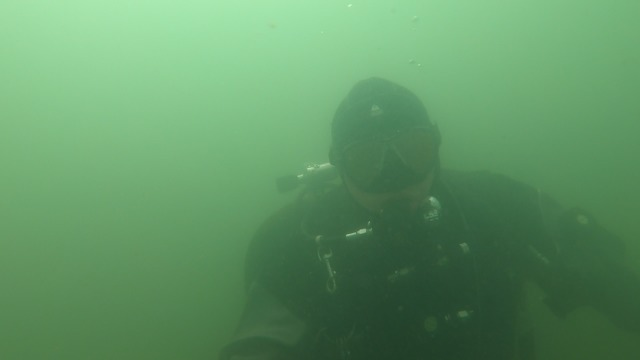Diver: (204, 66, 636, 355)
Head: (314, 71, 466, 250)
